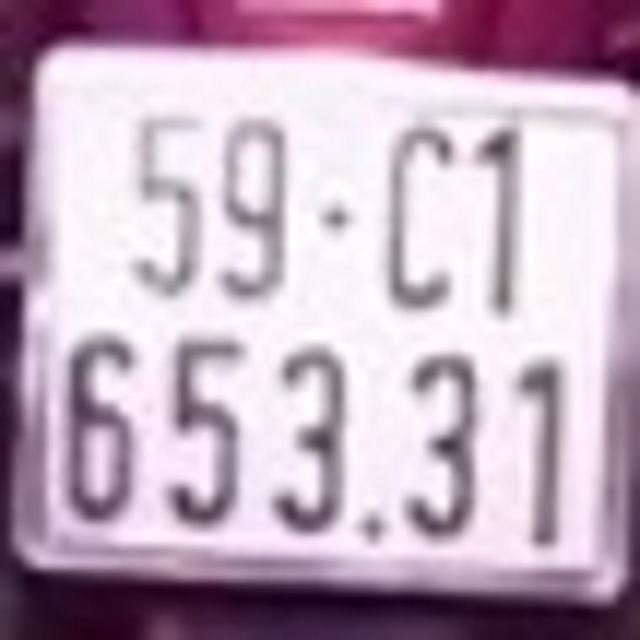1: (469, 122, 520, 319), (510, 355, 560, 551)
3: (403, 349, 477, 544), (279, 338, 342, 538)
5: (168, 334, 242, 526), (140, 104, 202, 301)
6: (64, 334, 134, 520)
9: (214, 113, 284, 305)
C: (384, 123, 460, 314)
